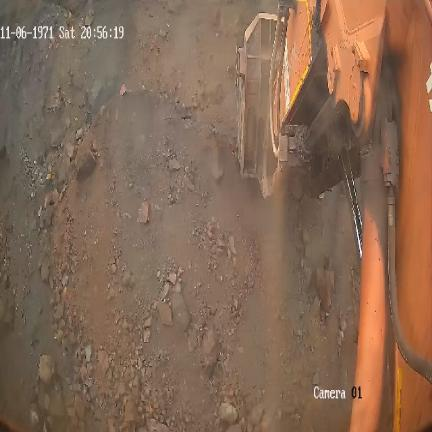pile: (0, 3, 357, 432)
